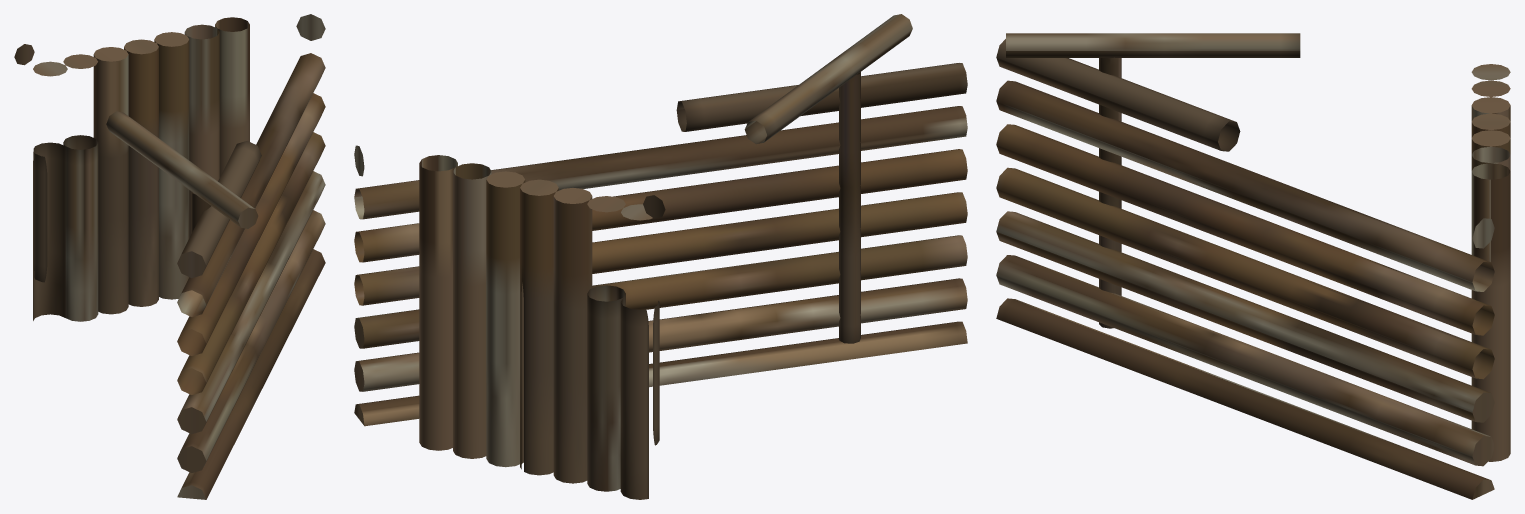
File: section-6.obj
3 renders of one model, left to right at view 1: azimuth 30°, elevation 25°; view 2: azimuth 150°, elevation 25°; view 3: azimuth 270°, elevation 25°, orthographic. The views are drawn at different scales.
Size of the model in its own units: 1.27 by 1.01 by 1.45.
